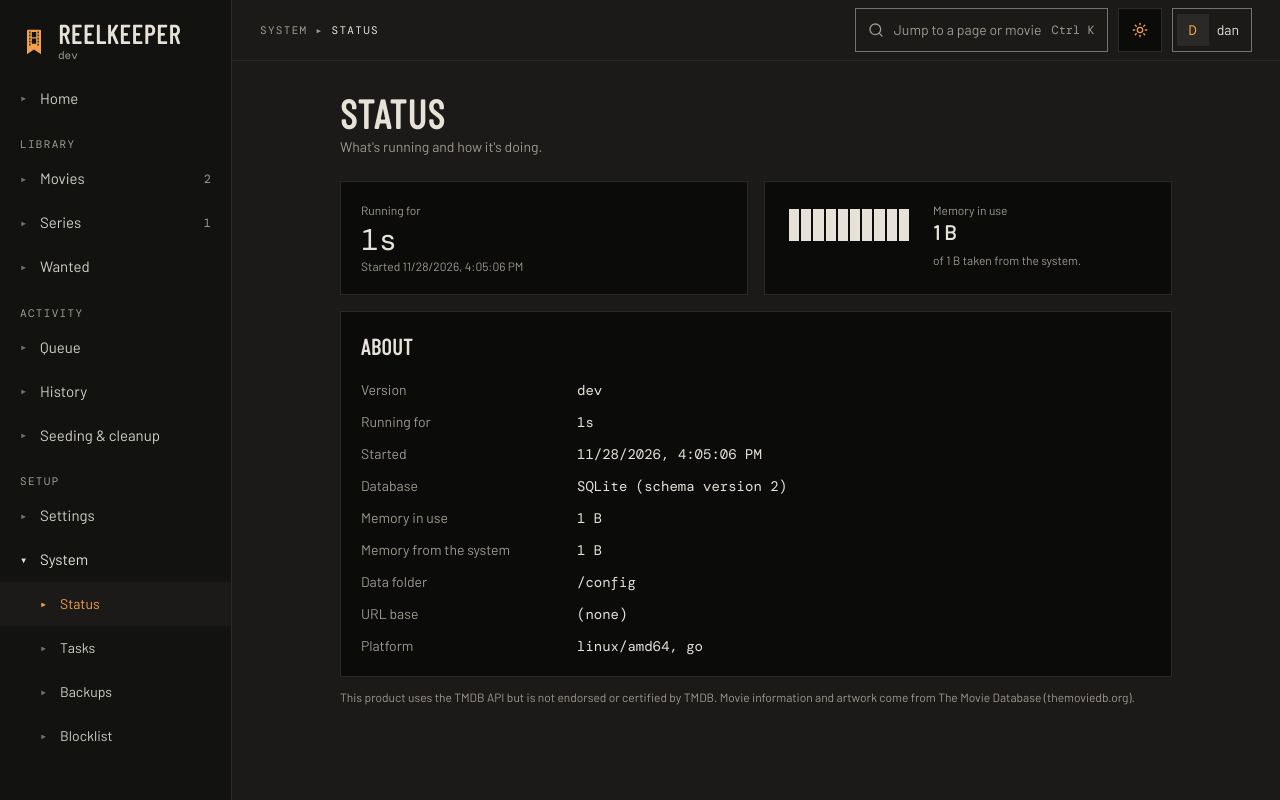
jump to › opens from the top bar button and filters pages and titles
Click the button "Jump to a page or movie Ctrl K".
click(981, 30)  # box x1=855 y1=8 x2=1108 y2=52
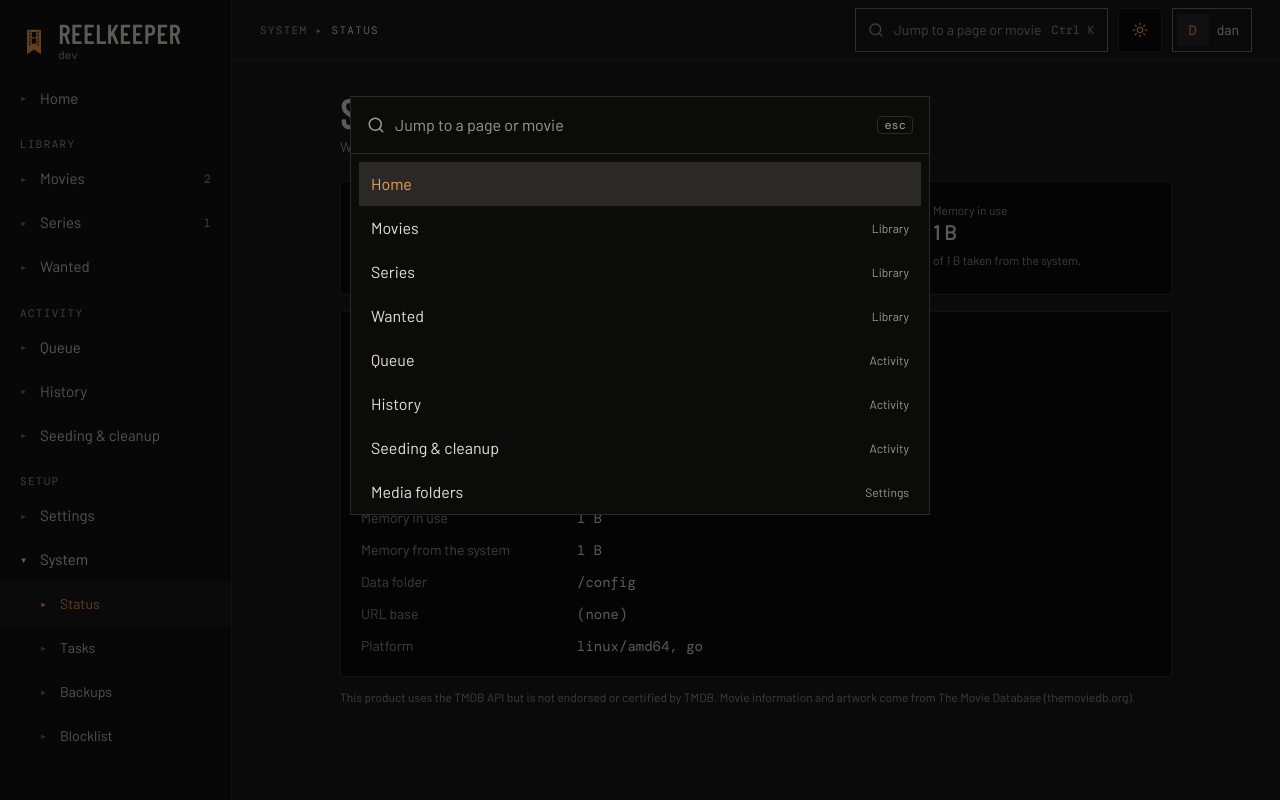
Type "dun" into the dropdown.
click(631, 125); type("dun")  # box x1=395 y1=97 x2=867 y2=153
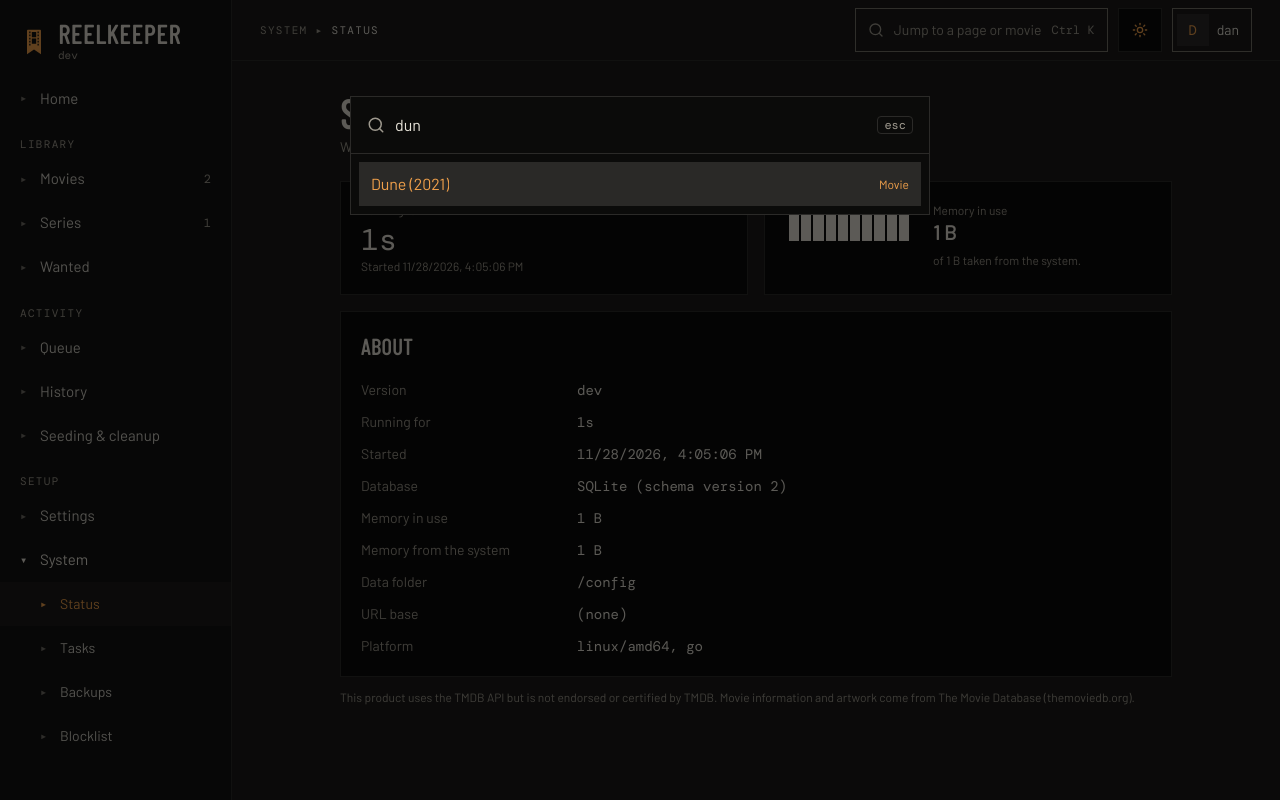
Now the option "Dune (2021) Movie" is shown, box x1=359 y1=162 x2=921 y2=206
Replace the text in the dropdown with "indexers" at [631, 125], box x1=395 y1=97 x2=867 y2=153
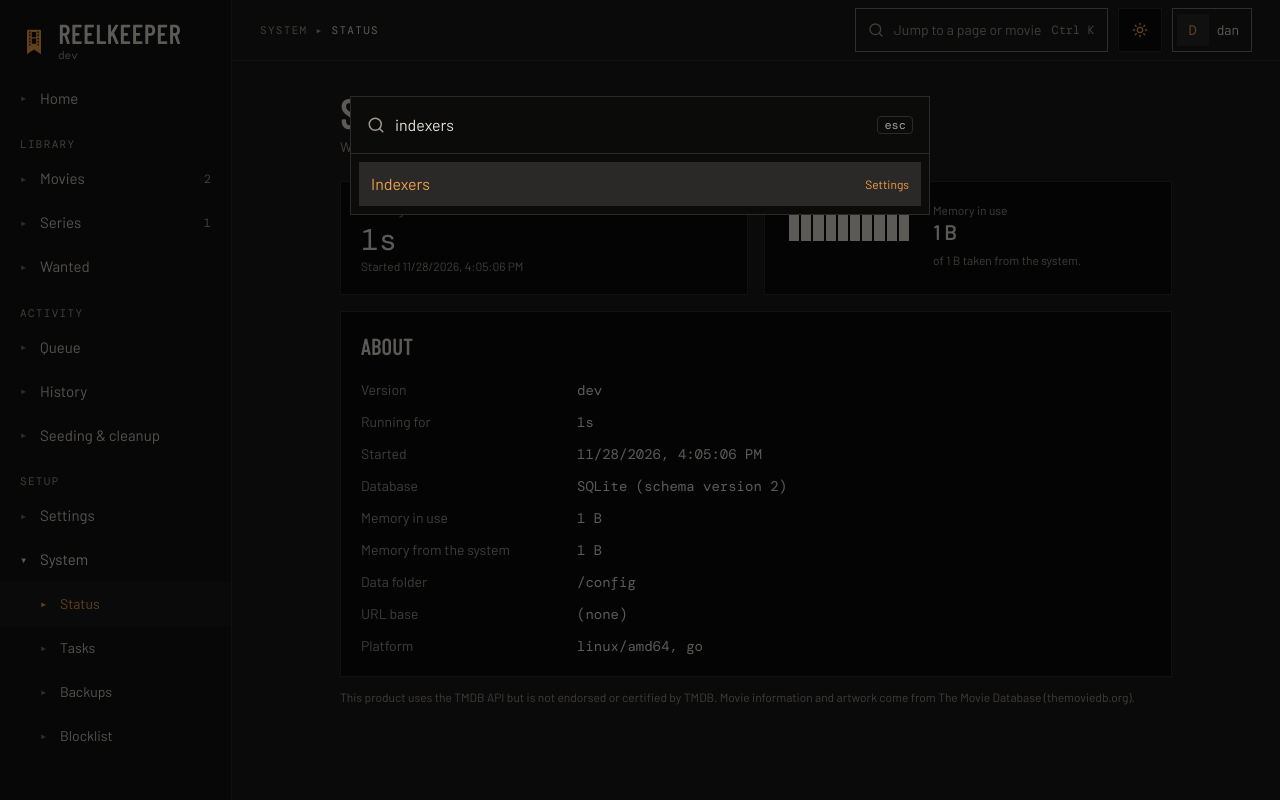
Now the option "Indexers Settings" is shown, box x1=359 y1=162 x2=921 y2=206
Replace the text in the dropdown with "zzzz" at [631, 125], box x1=395 y1=97 x2=867 y2=153
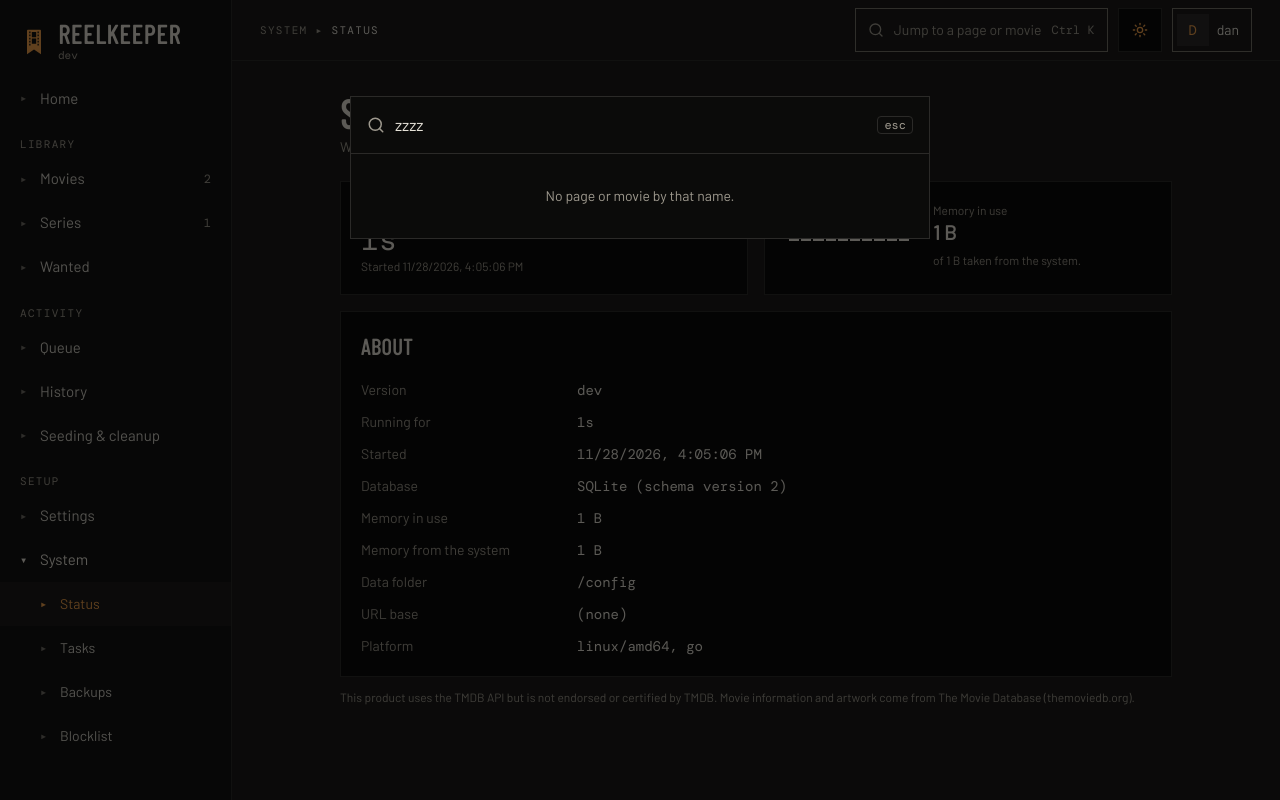
Now the text "No page or movie by that name." is shown, box x1=546 y1=187 x2=734 y2=204
